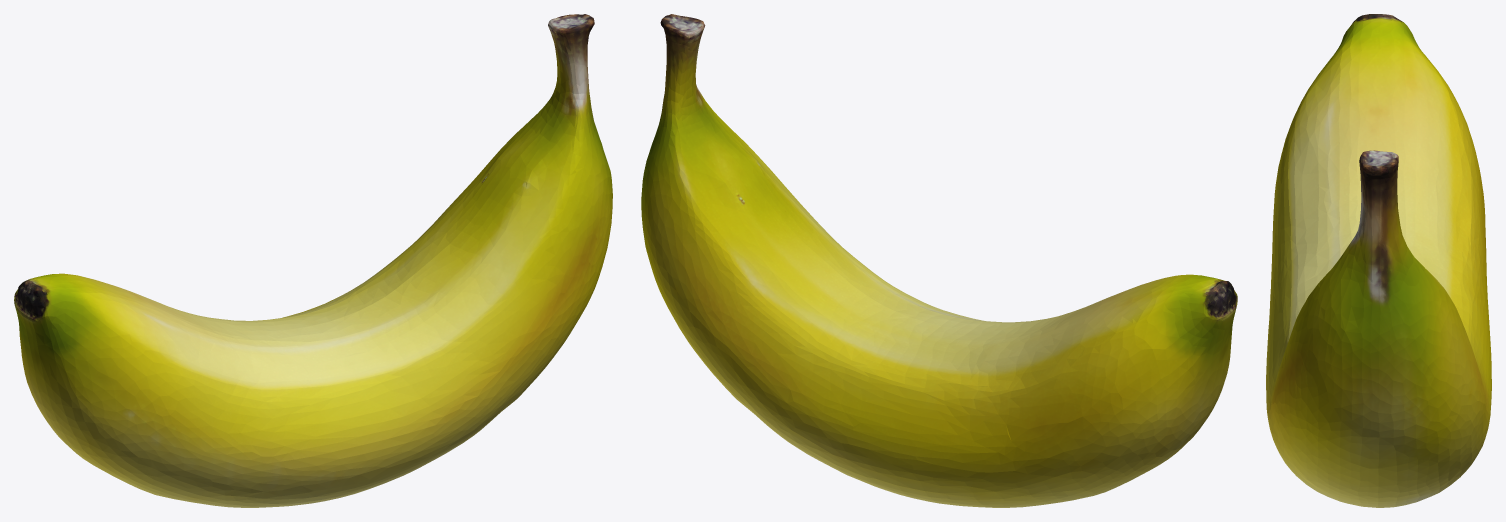
Rendered from sample.glb.
3 renders of one model, left to right at view 1: azimuth 30°, elevation 25°; view 2: azimuth 150°, elevation 25°; view 3: azimuth 270°, elevation 25°, orthographic. The views are drawn at different scales.
Visible parts, largest first — view 1: world; view 2: world; view 3: world.
Boxes of the visible parts, x1,y1,x2,y2 form: world: (14, 14, 612, 507); world: (641, 14, 1237, 507); world: (1266, 14, 1491, 507).
Bounding box in the file's own units: 0.9995 × 0.6704 × 0.305.
1 material, 1 textured.
